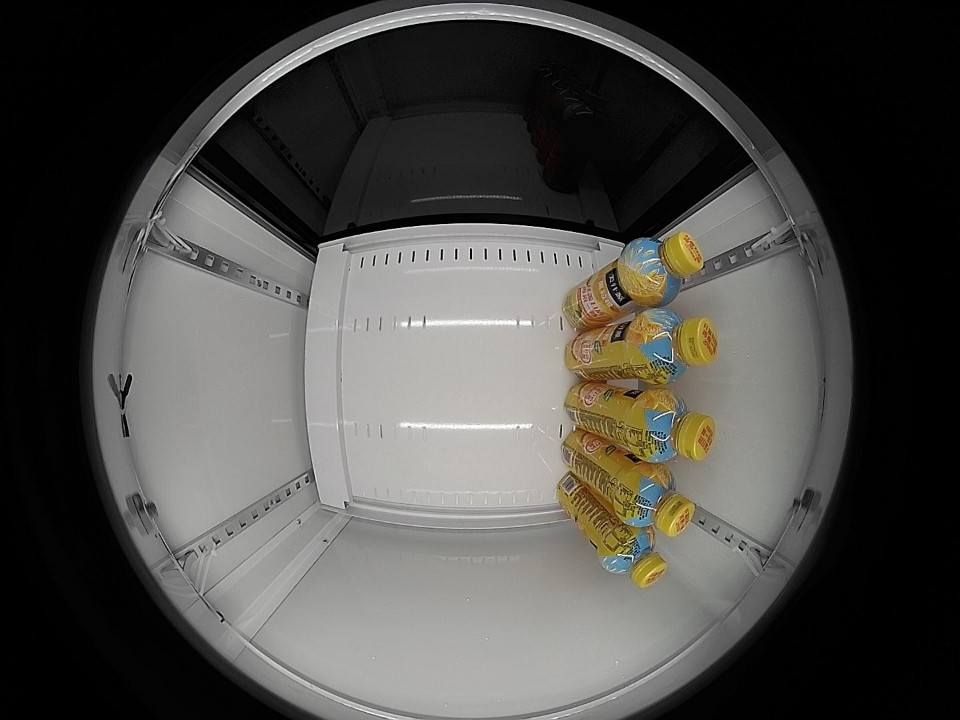guolicheng: (633, 309, 718, 386), (633, 388, 716, 463), (622, 232, 703, 307), (619, 463, 695, 536), (600, 525, 667, 587)
